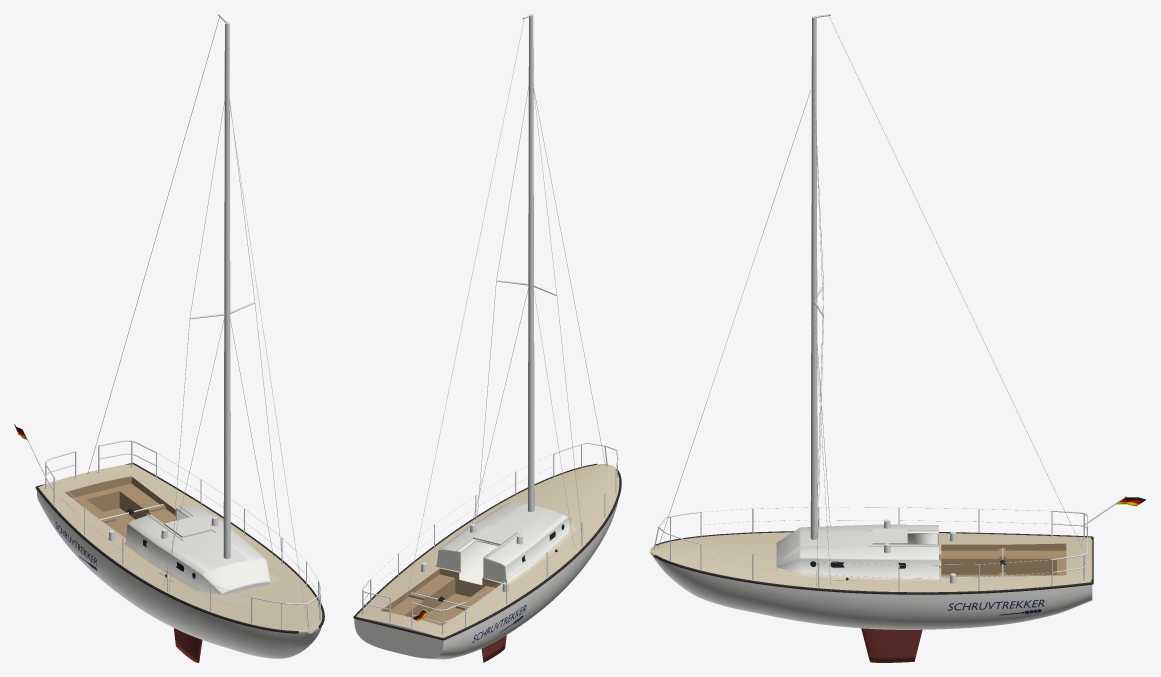
The model's file is dehler31_hull.glb.
3 renders of one model, left to right at view 1: azimuth 30°, elevation 25°; view 2: azimuth 150°, elevation 25°; view 3: azimuth 270°, elevation 25°, orthographic. The views are drawn at different scales.
Visible parts, largest first — view 1: Rumpf_x, Mast_x, Stagen_und_Wanten_x, Reling_und_Beschlaege_x, Scheuerleiste_x, Schiebeluk_x, Kiel_x; view 2: Rumpf_x, Mast_x, Stagen_und_Wanten_x, Reling_und_Beschlaege_x, Scheuerleiste_x, Schiebeluk_x; view 3: Rumpf_x, Mast_x, Reling_und_Beschlaege_x, Stagen_und_Wanten_x, Scheuerleiste_x, Kiel_x, Schiebeluk_x.
Part boxes in pixels (bbox=[...]): Rumpf_x: bbox=[36, 464, 322, 658]; Mast_x: bbox=[190, 14, 255, 558]; Stagen_und_Wanten_x: bbox=[87, 17, 307, 625]; Reling_und_Beschlaege_x: bbox=[22, 429, 320, 629]; Scheuerleiste_x: bbox=[35, 463, 324, 633]; Schiebeluk_x: bbox=[146, 505, 216, 540]; Kiel_x: bbox=[174, 628, 202, 662]; Rumpf_x: bbox=[354, 464, 619, 659]; Mast_x: bbox=[496, 14, 557, 511]; Stagen_und_Wanten_x: bbox=[401, 19, 605, 623]; Reling_und_Beschlaege_x: bbox=[361, 442, 618, 635]; Scheuerleiste_x: bbox=[353, 463, 621, 640]; Schiebeluk_x: bbox=[456, 525, 520, 557]; Rumpf_x: bbox=[650, 524, 1092, 629]; Mast_x: bbox=[810, 14, 830, 539]; Reling_und_Beschlaege_x: bbox=[653, 496, 1126, 591]; Stagen_und_Wanten_x: bbox=[657, 16, 1086, 585]; Scheuerleiste_x: bbox=[654, 531, 1093, 594]; Kiel_x: bbox=[861, 628, 922, 662]; Schiebeluk_x: bbox=[868, 528, 938, 546].
Size of the model in its own units: 3.11 by 15.17 by 10.54.
